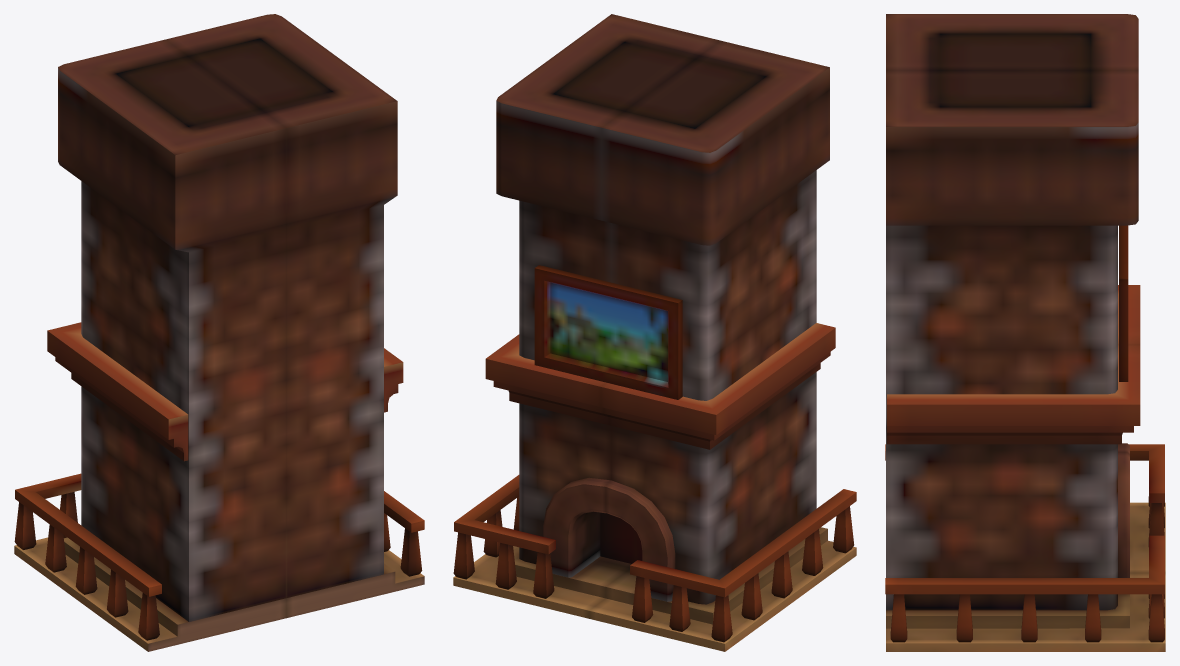
Rendered from FirePlace_03.gltf.
The picture shows the model from 3 angles, left to right: view 1: azimuth 30°, elevation 25°; view 2: azimuth 150°, elevation 25°; view 3: azimuth 270°, elevation 25°; orthographic projection. The views are drawn at different scales.
Parts seen in each view (by area): view 1: FirePlace_03; view 2: FirePlace_03; view 3: FirePlace_03.
Boxes of the visible parts, left/top/right/bottom form: FirePlace_03: left=14, top=14, right=424, bottom=651; FirePlace_03: left=453, top=14, right=856, bottom=651; FirePlace_03: left=885, top=14, right=1165, bottom=651.
Size of the model in its own units: 54.31 by 91.94 by 45.66.
1 material, 1 textured.
